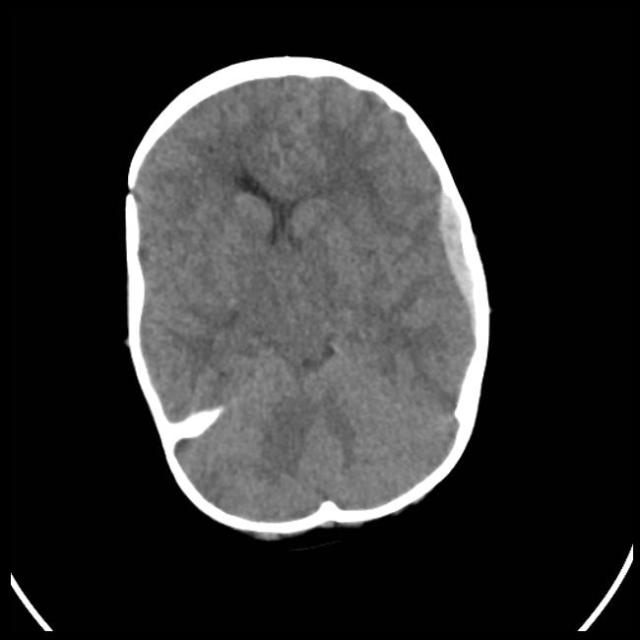lesion: (428, 156, 498, 359)
